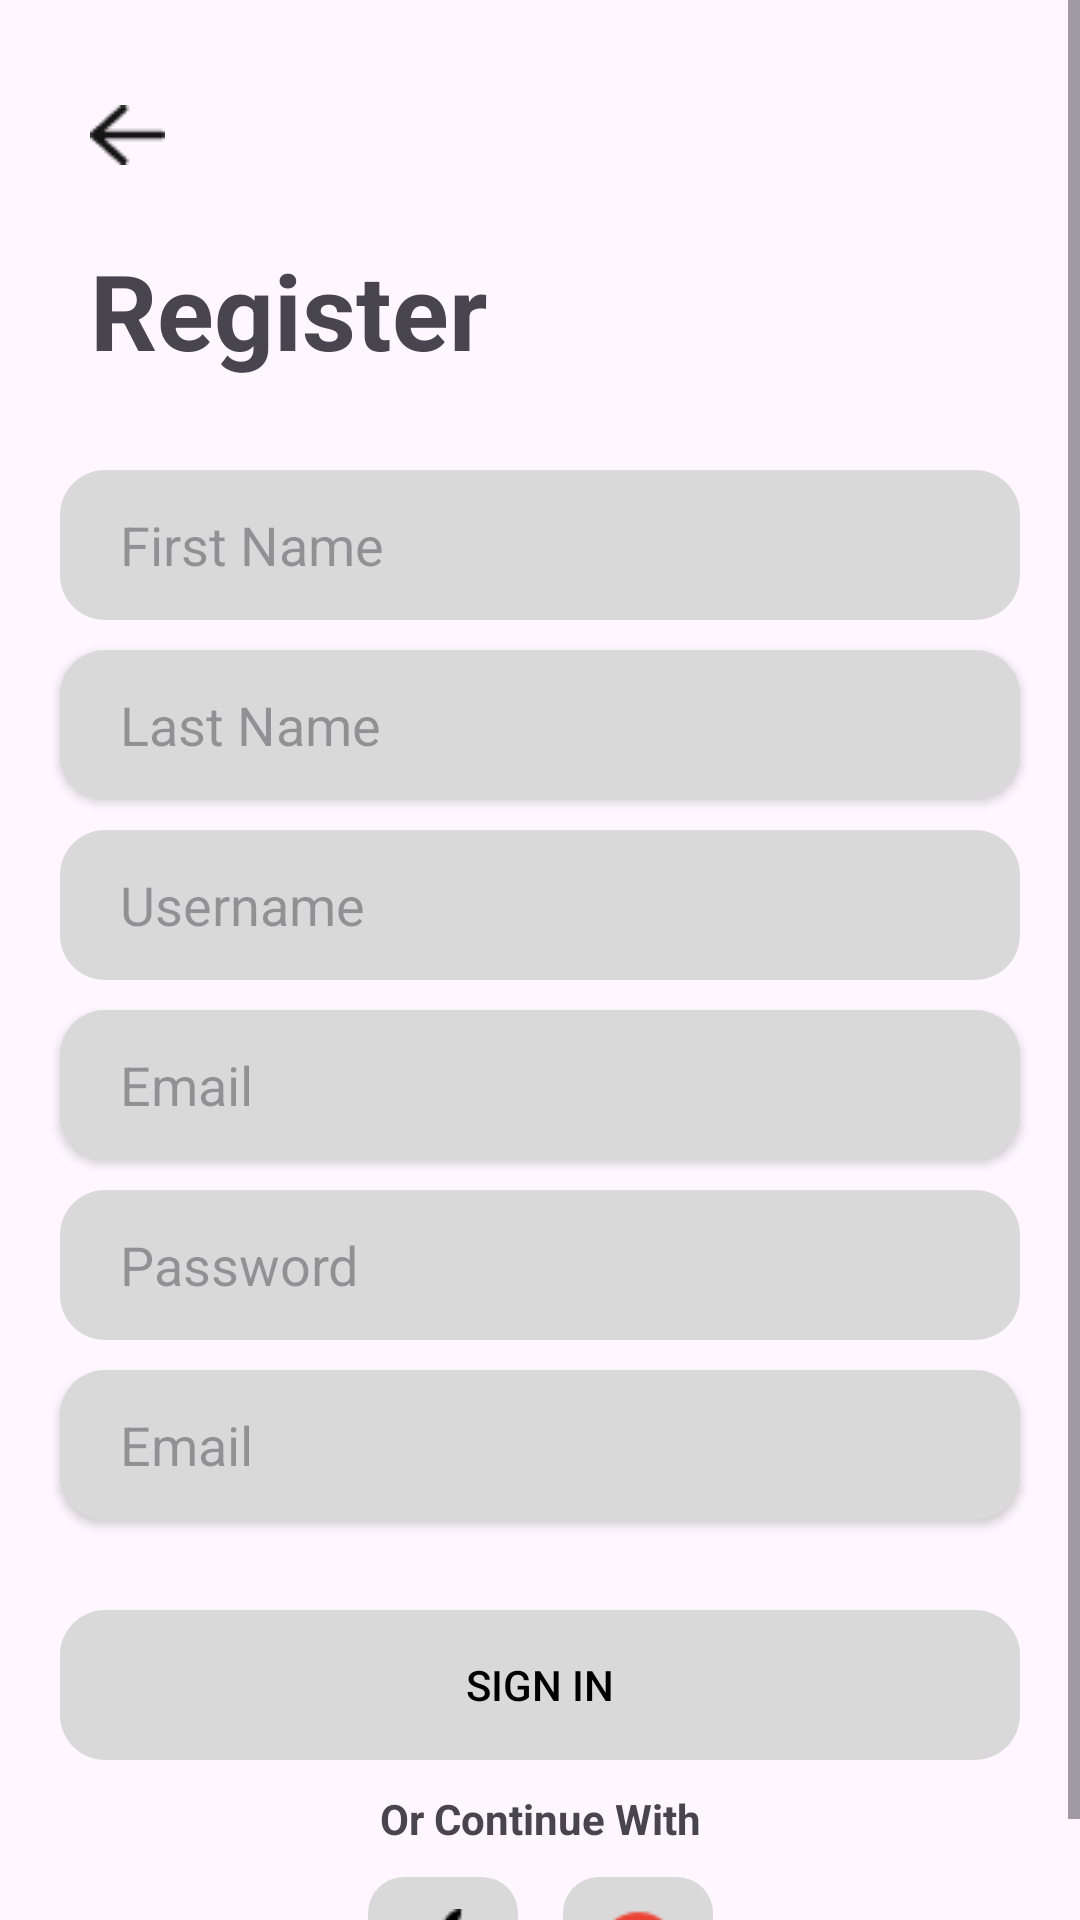

Where to tap for icons on this 1080 x 1920 app screen, as (x,y):
back: (127,135)
